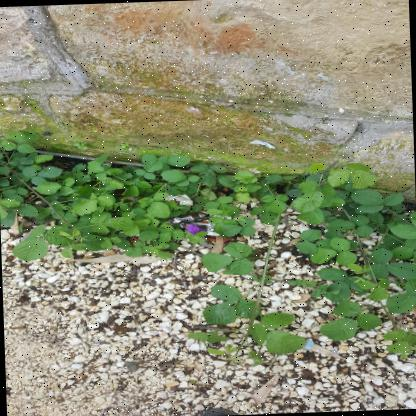Other plastic: (167, 212, 232, 236), (166, 194, 194, 207), (304, 338, 313, 350), (129, 197, 141, 201)
Unlabeled litter: (249, 140, 276, 149)
